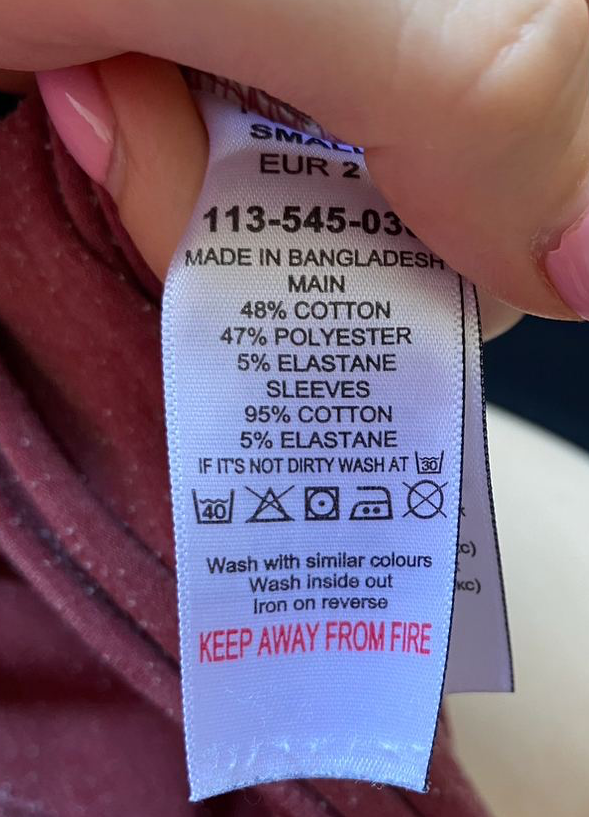do_not_bleach: (243, 479, 296, 525)
do_not_dry_clean: (401, 478, 450, 520)
ironing_at_med_temp: (347, 479, 394, 524)
tumble_drying_low_temps: (303, 483, 343, 522)
wash_at_or_below_30: (412, 448, 445, 477)
wash_at_or_below_40: (187, 484, 239, 526)
